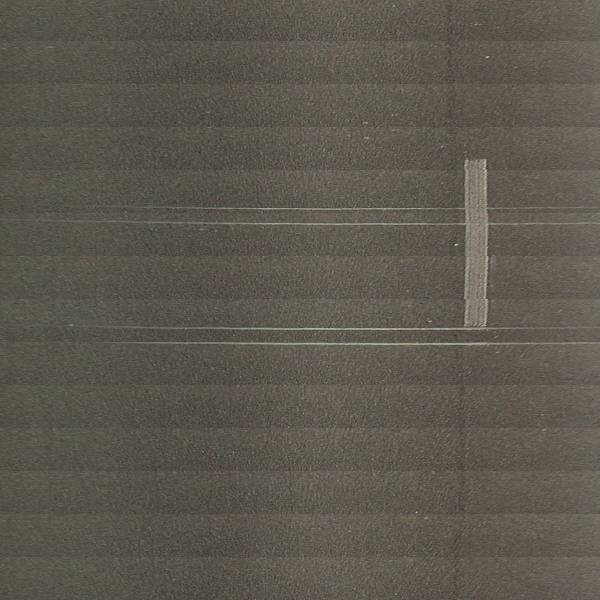road_damage: (452, 367, 469, 600), (103, 340, 529, 347), (91, 203, 457, 211)
